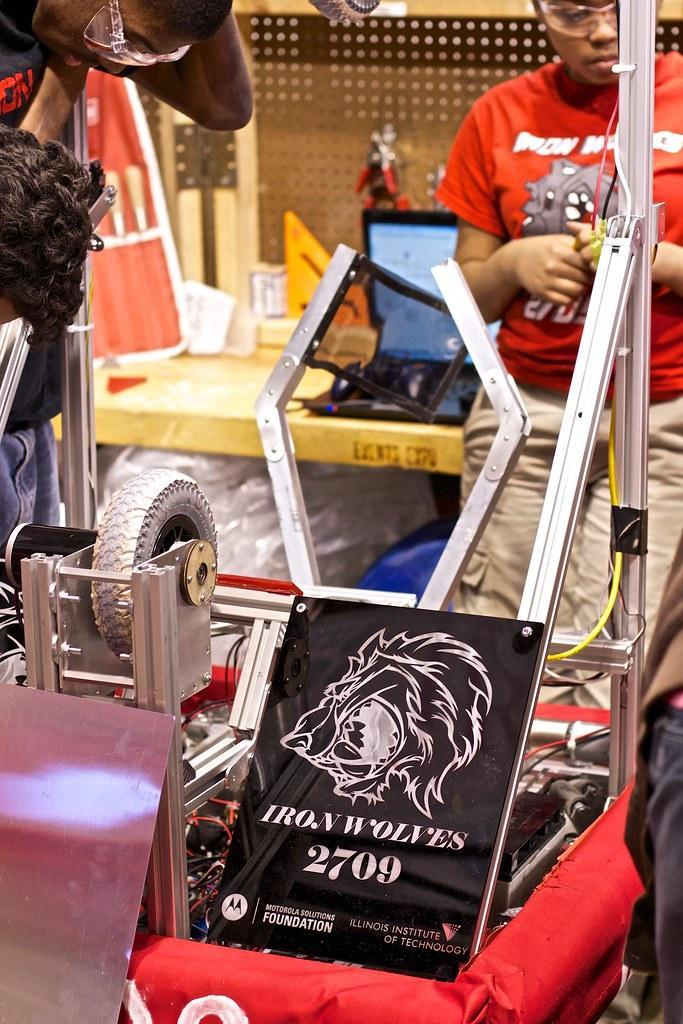robot: (0, 0, 677, 1024)
